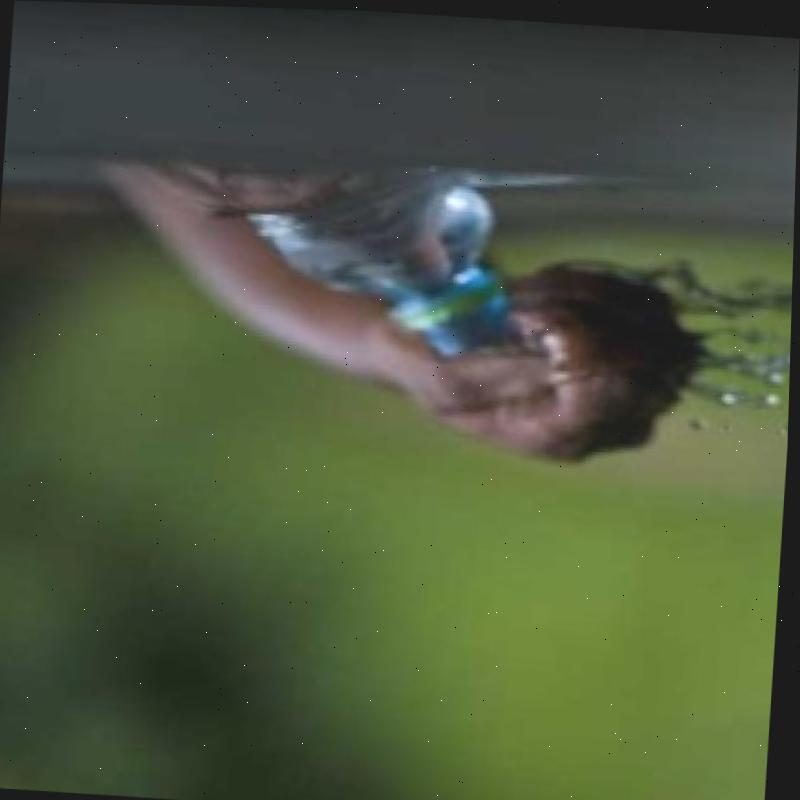botella: (236, 166, 518, 357)
